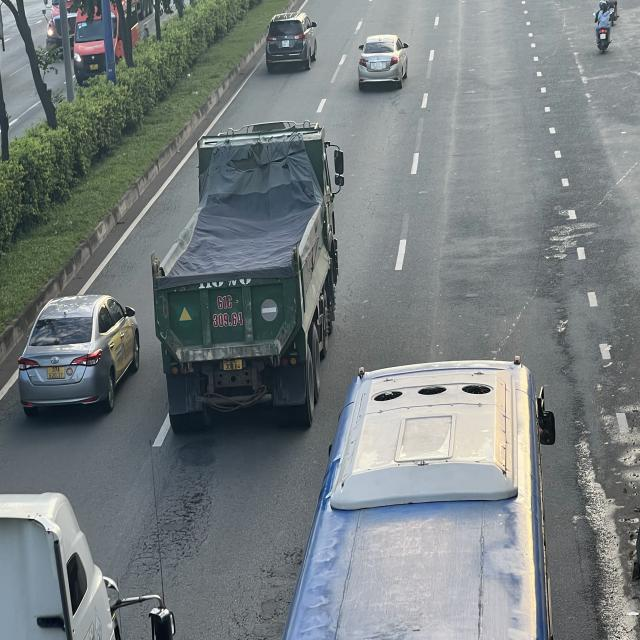car: (15, 295, 140, 415), (266, 9, 318, 70), (355, 36, 407, 90)
coach: (267, 356, 558, 637)
container: (153, 126, 344, 430)
